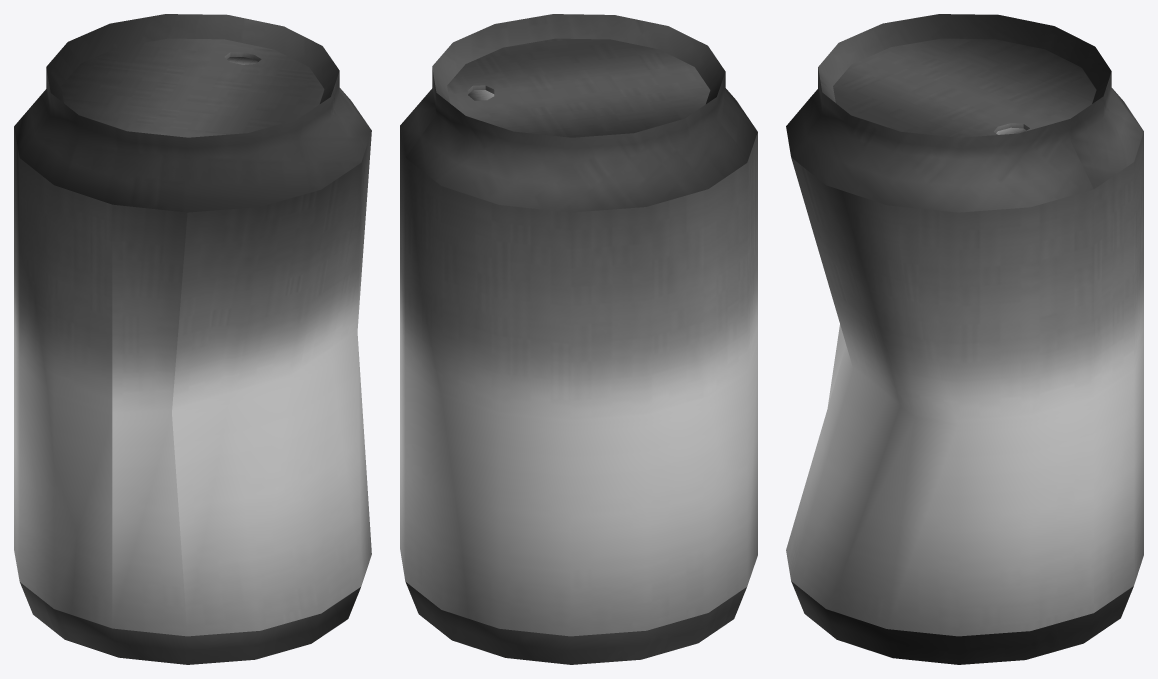
Rendered from crushedCan.FBX.
3 renders of one model, left to right at view 1: azimuth 30°, elevation 25°; view 2: azimuth 150°, elevation 25°; view 3: azimuth 270°, elevation 25°, orthographic.
Visible parts, largest first — view 1: 13; view 2: 13; view 3: 13.
Part boxes in pixels (bbox=[...]): 13: bbox=[14, 14, 371, 664]; 13: bbox=[400, 14, 757, 664]; 13: bbox=[786, 14, 1143, 664].
Size of the model in its own units: 5.86 by 9.4 by 5.87.
1 material, 1 textured.
